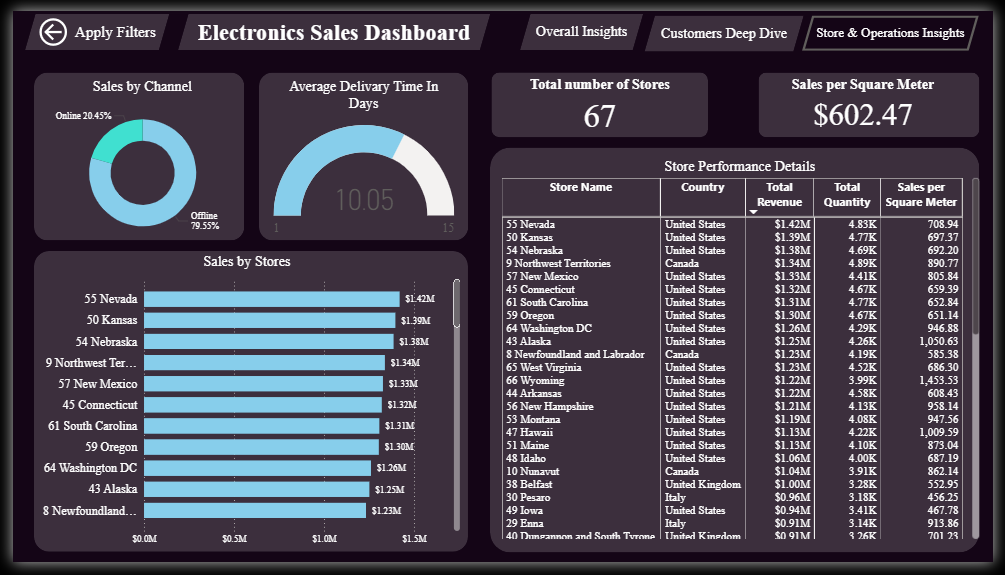

Layout of this report page (visuals, bound fields, positions):
{"tool":"powerbi","page":{"name":"Store & Operations Insights","canvas":[1280,720],"ordinal":2},"visuals":[{"type":"shape","box":[27.6,313.8,567.2,393.1],"z":0},{"type":"shape","box":[624.1,179.3,639.7,529.3],"z":1000},{"type":"barChart","title":"Sales by Stores","fields":{"Y":["Orders data.Total Revenue"],"Category":["Stores Data.Store Name"]},"box":[27.6,313.8,556.9,387.9],"z":3000},{"type":"tableEx","title":"Store Performance Details","fields":{"Values":["Stores Data.Store Name","Stores Data.Country","Orders data.Total Revenue","Orders data.Total Quantity","Orders data.Sales per sqm"]},"box":[637.9,191.4,625.9,498.3],"z":4000},{"type":"actionButton","box":[16.3,4.9,188.7,47.2],"z":5000},{"type":"actionButton","box":[216.3,4.9,408.3,47.2],"z":6000},{"type":"actionButton","box":[1032.2,5.8,231.1,46.2],"z":9000},{"type":"actionButton","box":[824.7,6.5,208.2,47.2],"z":10000},{"type":"actionButton","box":[663.6,4.9,161,47.2],"z":11000},{"type":"shape","box":[974.5,80.9,288.9,84.7],"z":17000},{"type":"shape","box":[624.6,81.3,283,84.6],"z":18000},{"type":"shape","box":[27.7,81.3,274.9,219.6],"z":20000},{"type":"shape","box":[321.6,80.9,273.5,219.5],"z":21000},{"type":"cardVisual","fields":{"Data":["Orders data.Total number of Stores","Orders data.Sales per sqm"]},"box":[595.1,69.3,685.6,96.3],"z":21500},{"type":"donutChart","title":"Sales by Channel","fields":{"Y":["Orders data.Total Revenue"],"Category":["Stores Data.Channel"]},"box":[34.7,88.6,267.7,225.3],"z":22000},{"type":"gauge","title":"Average Delivary Time In Days","fields":{"MaxValue":["Max(Orders data.Delivery Time)1"],"MinValue":["Min(Orders data.Delivery Time)"],"Y":["Orders data.Average Delivery Time In Days"]},"box":[335.1,88.6,246.5,225.3],"z":23000}]}

Visuals, with their boxes in screenshot pixels (x1, y1, x2, y2), scaled from the page's 1280x720 canvas onto the 1005x575 screenshot:
shape: [left=22, top=251, right=467, bottom=565]
shape: [left=490, top=143, right=992, bottom=566]
"Sales by Stores" barChart: [left=22, top=251, right=459, bottom=560]
"Store Performance Details" tableEx: [left=501, top=153, right=992, bottom=551]
actionButton: [left=13, top=4, right=161, bottom=42]
actionButton: [left=170, top=4, right=490, bottom=42]
actionButton: [left=810, top=5, right=992, bottom=42]
actionButton: [left=648, top=5, right=811, bottom=43]
actionButton: [left=521, top=4, right=647, bottom=42]
shape: [left=765, top=65, right=992, bottom=132]
shape: [left=490, top=65, right=713, bottom=132]
shape: [left=22, top=65, right=238, bottom=240]
shape: [left=253, top=65, right=467, bottom=240]
cardVisual - Orders data.Total number of Stores x Orders data.Sales per sqm: [left=467, top=55, right=1004, bottom=132]
"Sales by Channel" donutChart: [left=27, top=71, right=237, bottom=251]
"Average Delivary Time In Days" gauge: [left=263, top=71, right=457, bottom=251]
